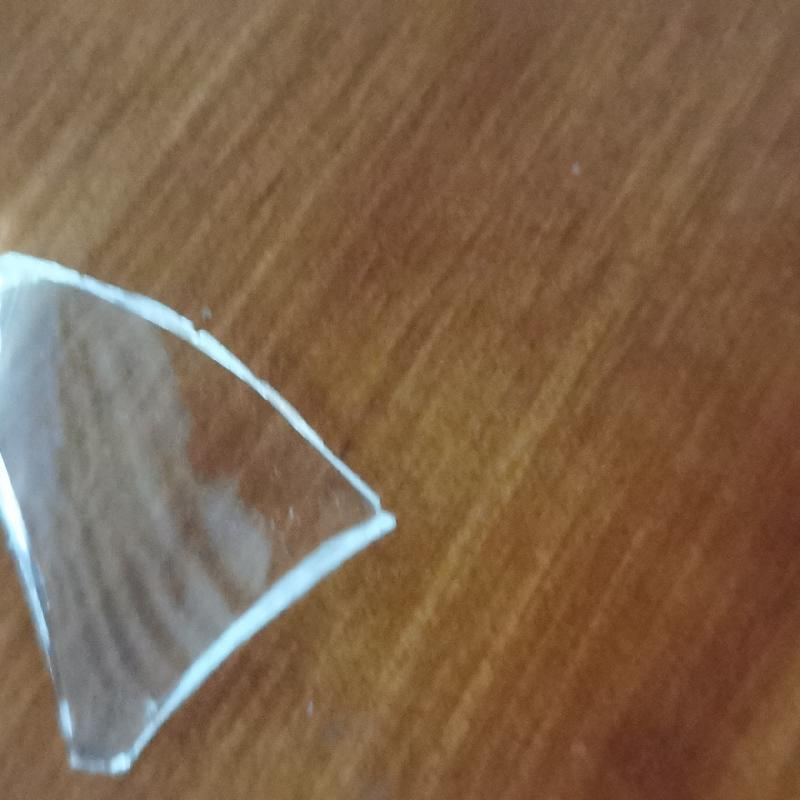glass: (1, 249, 397, 780)
